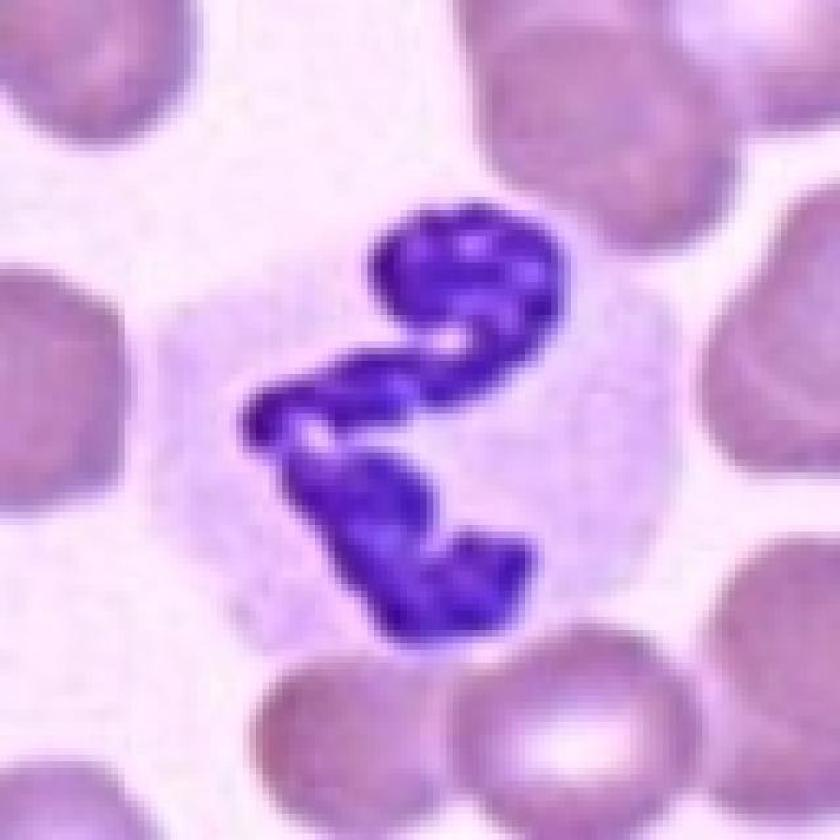neutrophil: (102, 125, 727, 683)
